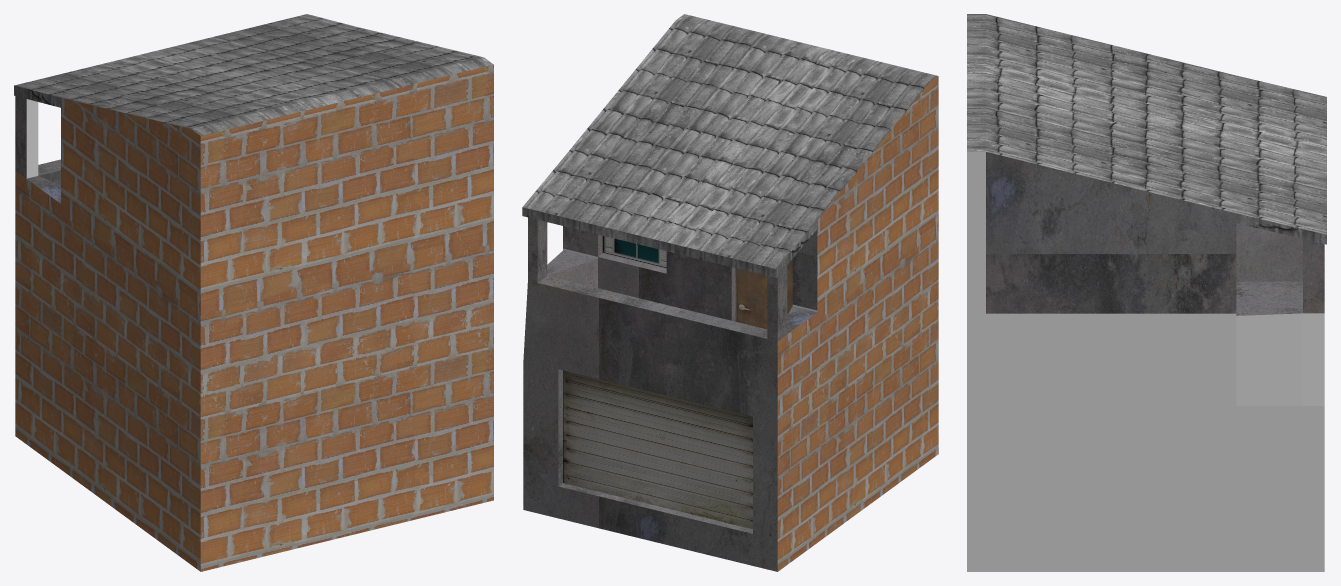
File: casa1.glb
3 renders of one model, left to right at view 1: azimuth 30°, elevation 25°; view 2: azimuth 150°, elevation 25°; view 3: azimuth 270°, elevation 25°, orthographic. The views are drawn at different scales.
Visible parts, largest first — view 1: Cubo.003; view 2: Cubo.003; view 3: Cubo.003.
Part boxes in pixels (x1,y1,x2,y2): Cubo.003: (14,14,493,571); Cubo.003: (522,14,938,571); Cubo.003: (967,14,1326,571).
Bounding box in the file's own units: 2.37 × 3.36 × 2.61.
7 materials, 6 textured.
